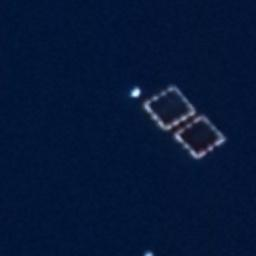square_solid: (169, 108, 232, 166), (140, 80, 201, 137)
